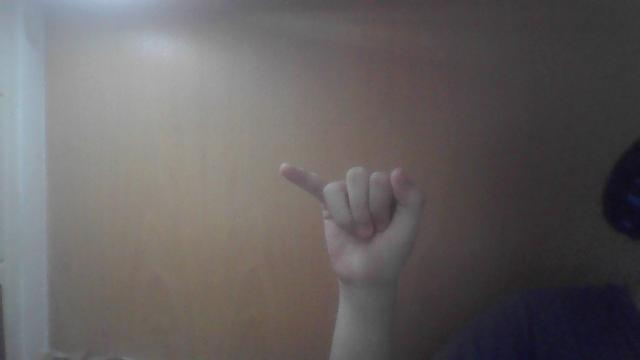Right: (276, 152, 437, 286)
